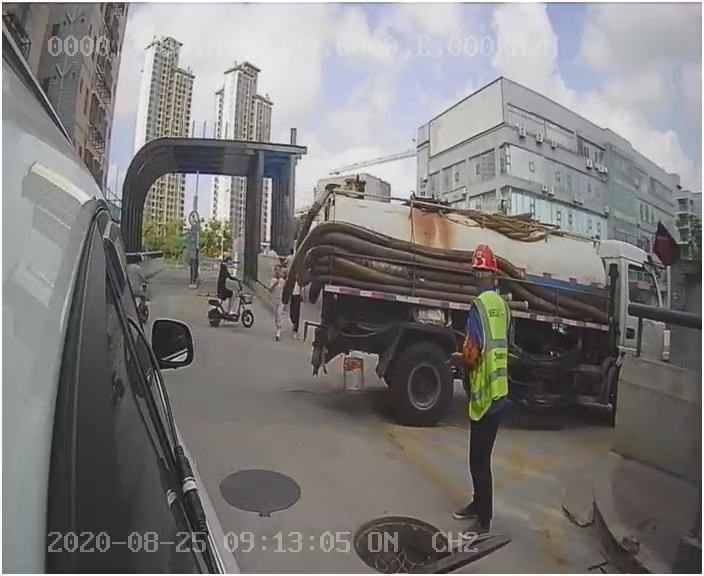person: (446, 248, 520, 534)
